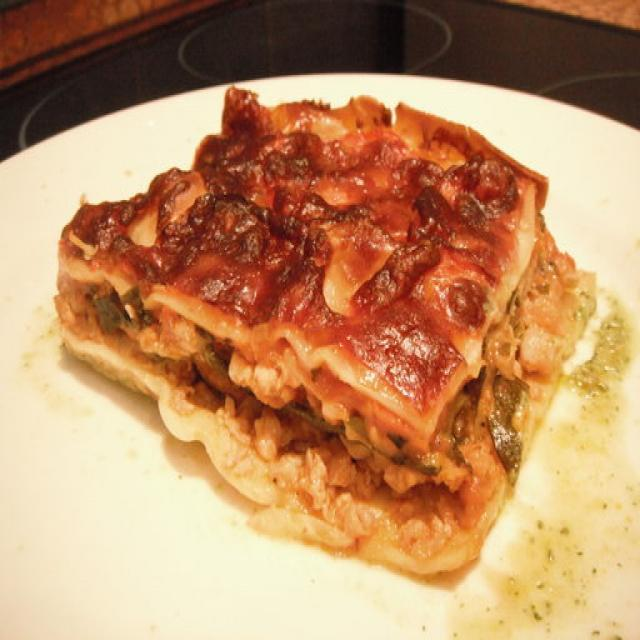Lasagna: (44, 72, 586, 587)
